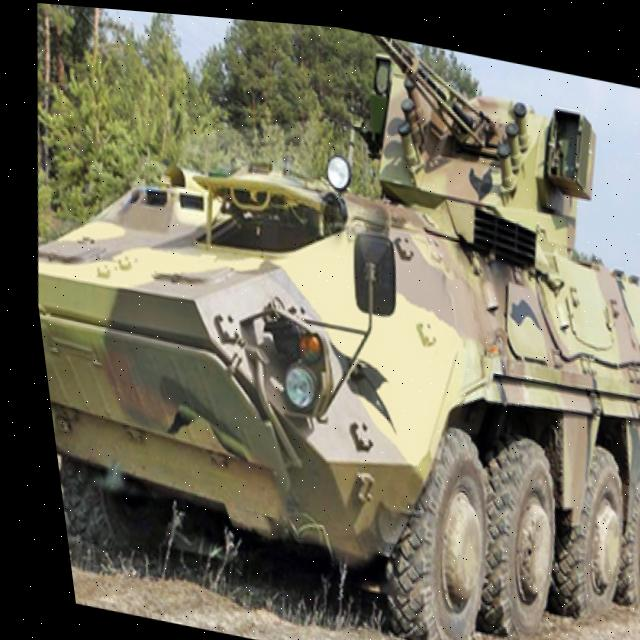MIL_APC: (3, 33, 640, 640)
